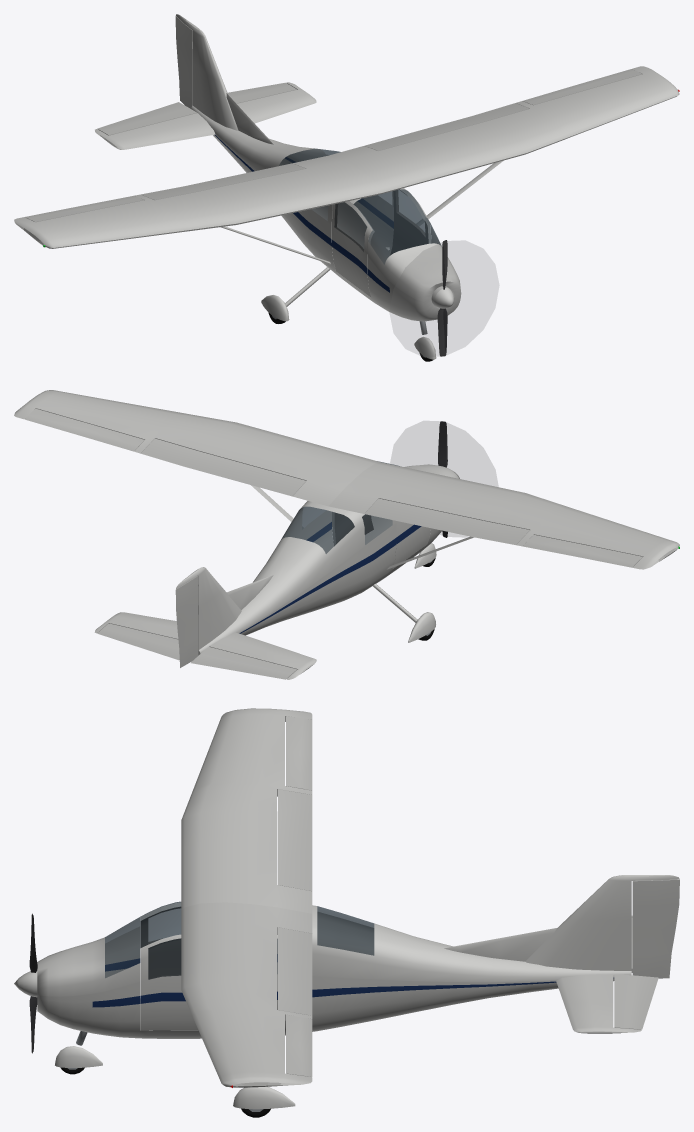
File: cessna_lod1.glb
The picture shows the model from 3 angles, top to bottom: view 1: azimuth 30°, elevation 25°; view 2: azimuth 150°, elevation 25°; view 3: azimuth 270°, elevation 25°; orthographic projection. The views are drawn at different scales.
Parts seen in each view (by area): view 1: fuselage, wing_l, wing_r, prop_disc, door_r, elevator, door_l, flap_l, flap_r, gear, rudder, propeller (+2 smaller); view 2: fuselage, wing_l, wing_r, prop_disc, flap_l, elevator, flap_r, rudder, aileron_l, aileron_r, gear, door_r (+2 smaller); view 3: fuselage, wing_r, wing_l, rudder, door_l, flap_r, flap_l, door_r, gear, elevator, aileron_r, aileron_l (+1 smaller).
Boxes of the visible parts, x1,y1,x2,y2 form: fuselage: (95, 14, 503, 321); wing_l: (328, 66, 679, 193); wing_r: (14, 156, 382, 248); prop_disc: (390, 241, 498, 356); door_r: (332, 201, 374, 297); elevator: (97, 82, 296, 135); door_l: (390, 189, 431, 255); flap_l: (364, 103, 529, 150); flap_r: (141, 163, 305, 200); gear: (261, 267, 436, 361); rudder: (175, 16, 192, 108); propeller: (431, 240, 454, 356); fuselage: (94, 461, 473, 679); wing_l: (14, 390, 380, 506); wing_r: (328, 462, 679, 569); prop_disc: (390, 421, 497, 536); flap_l: (141, 438, 305, 496); elevator: (97, 623, 297, 679); flap_r: (365, 498, 529, 544); rudder: (175, 576, 198, 667); aileron_l: (25, 408, 144, 451); aileron_r: (523, 534, 642, 567); gear: (373, 543, 436, 642); door_r: (392, 521, 430, 568); fuselage: (37, 875, 679, 1038); wing_r: (181, 708, 312, 913); wing_l: (181, 902, 312, 1087); rudder: (632, 879, 679, 978); door_l: (140, 934, 198, 1030); flap_r: (278, 789, 312, 891); flap_l: (278, 927, 312, 1015); door_r: (140, 902, 181, 978); gear: (55, 1031, 295, 1117); elevator: (614, 918, 658, 1029); aileron_r: (286, 716, 312, 790); aileron_l: (286, 1014, 312, 1076).
Bounding box in the file's own units: 11.01 × 2.72 × 8.28.
